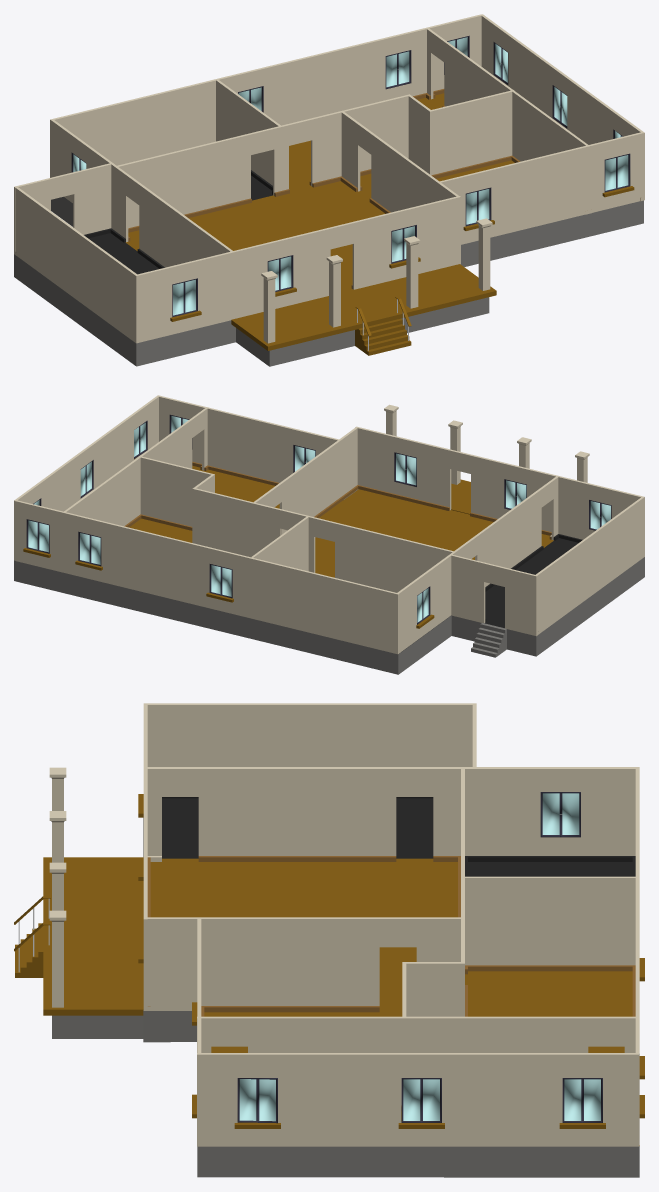
Rendered from Maison_Base_gamejam (1).fbx.
3 views of the same model, one above another, from view 1: azimuth 30°, elevation 25°; view 2: azimuth 150°, elevation 25°; view 3: azimuth 270°, elevation 25° (orthographic). The views are drawn at different scales.
Visible parts, largest first — view 1: Base_house; view 2: Base_house; view 3: Base_house.
Part boxes in pixels (x1,y1,x2,y2): Base_house: (14,14,644,366); Base_house: (14,395,644,674); Base_house: (14,703,644,1177).
Size of the model in its own units: 2488 by 405 by 1876.
